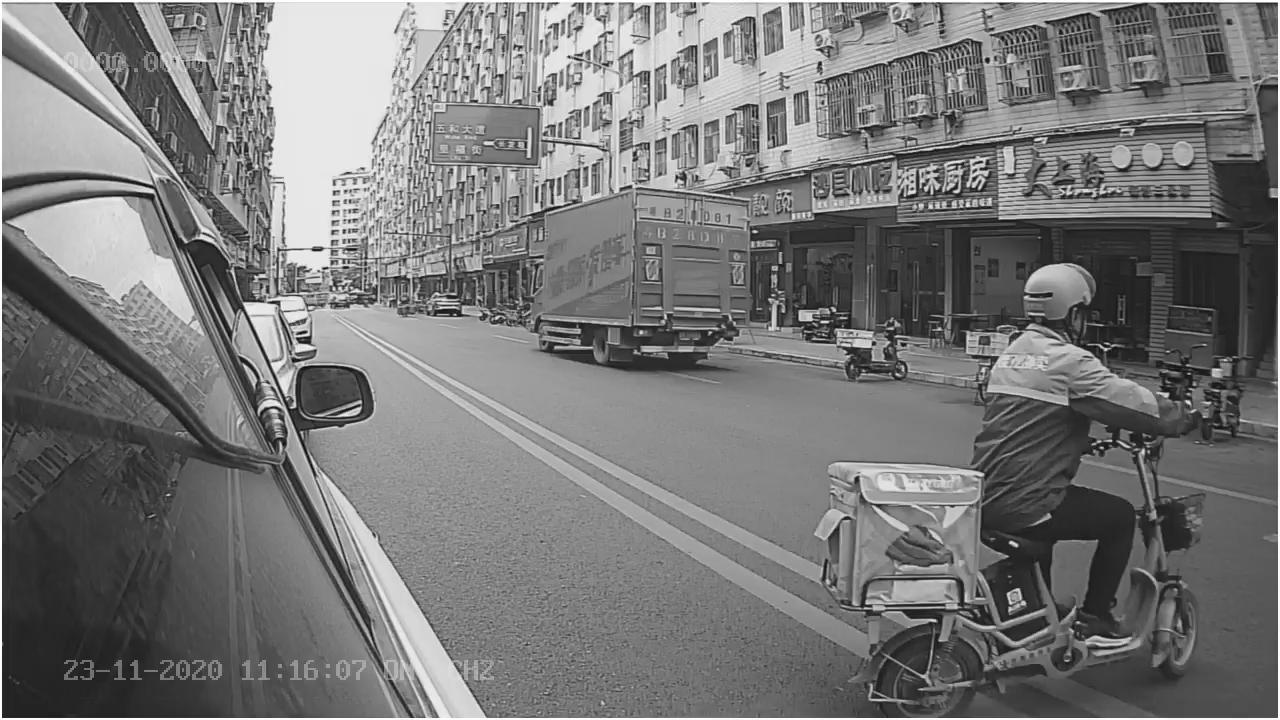person: (970, 255, 1205, 426)
